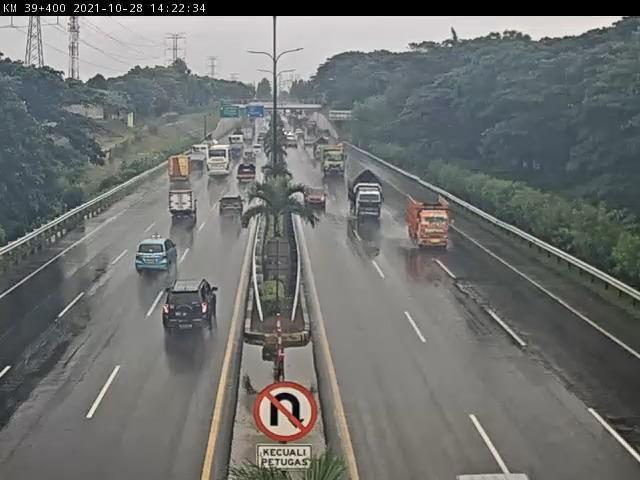bus: (205, 146, 235, 181)
car: (161, 278, 219, 333), (138, 236, 181, 274), (170, 190, 201, 220), (220, 195, 247, 221), (305, 186, 330, 209)
truck: (406, 195, 452, 252), (348, 172, 386, 223), (322, 148, 349, 179), (167, 155, 193, 183), (237, 163, 257, 183)
